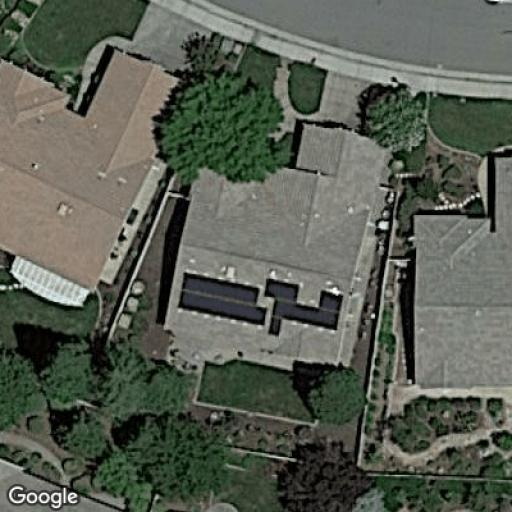solar-panel: (176, 269, 268, 328), (261, 276, 345, 338)
